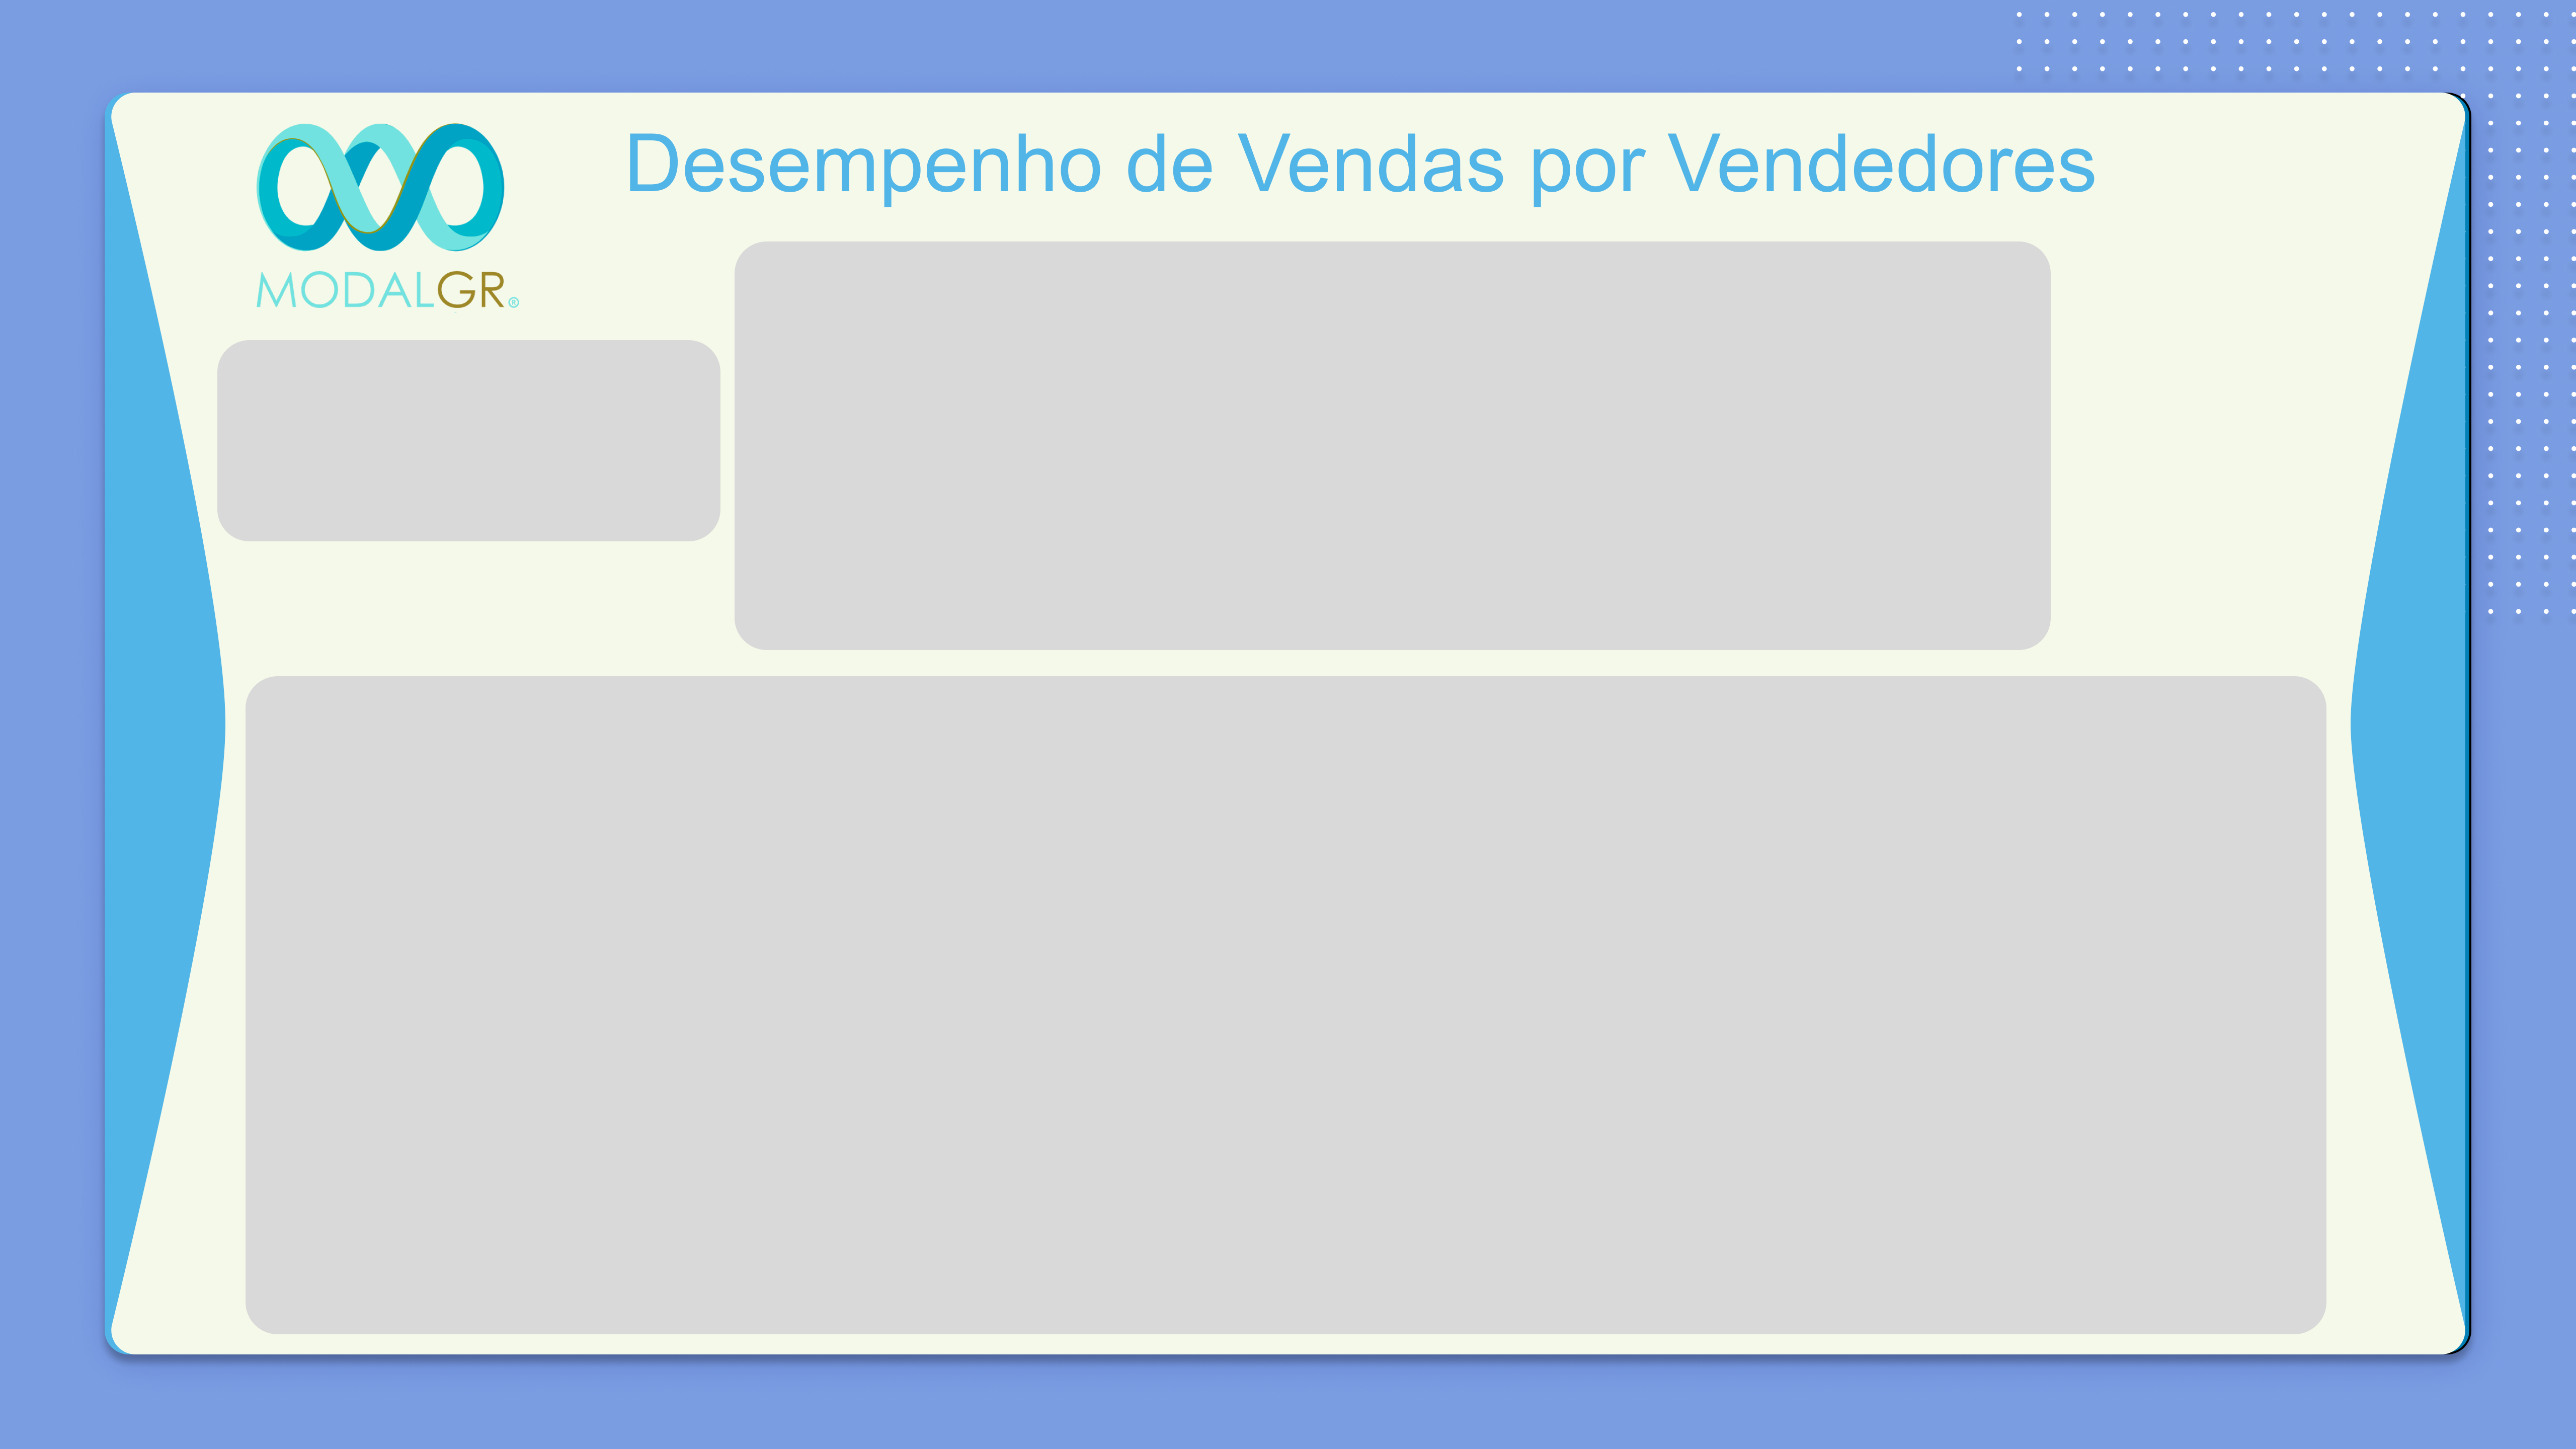

The page's visual inventory and layout, read from the dashboard file:
{"tool":"powerbi","page":{"name":"Grupo de Análise 2: Desempenho de Vendedores","canvas":[1280,720],"ordinal":1},"visuals":[{"type":"clusteredColumnChart","fields":{"Category":["Vendas.Vendedor"],"Y":["Medidas.Receita Total","Medidas.Lucro Total"]},"box":[120,340,850,327.1],"z":0},{"type":"slicer","title":"Vendedores","fields":{"Values":["Vendas.Vendedor"]},"box":[970,340,184.3,327.1],"z":2000},{"type":"clusteredColumnChart","fields":{"Category":["Vendas.Vendedor"],"Y":["Vendas.Comissão Total por Vendedor"]},"box":[371.4,124.3,654.3,202.9],"z":3000},{"type":"actionButton","box":[0,0,100,40],"z":4000},{"type":"multiRowCard","title":"Ordem Crescente de Lucro por Vendedor","fields":{"Values":["Vendas.VendedorMaiorLucro","Vendas.Vendedor"]},"box":[120,170,234.3,90],"z":6000},{"type":"actionButton","box":[1176.4,340.2,42.5,39.7],"z":7000},{"type":"actionButton","box":[60.9,340.2,39.7,39.7],"z":8000}]}

Visuals, with their boxes in screenshot pixels (x1, y1, x2, y2), scaled from the page's 1280x720 canvas onto the 2576x1449 screenshot:
clusteredColumnChart - Vendas.Vendedor x Medidas.Receita Total: locate(242, 684, 1952, 1342)
"Vendedores" slicer: locate(1952, 684, 2323, 1342)
clusteredColumnChart - Vendas.Vendedor x Vendas.Comissão Total por Vendedor: locate(748, 250, 2064, 659)
actionButton: locate(0, 0, 201, 80)
"Ordem Crescente de Lucro por Vendedor" multiRowCard: locate(242, 342, 713, 523)
actionButton: locate(2368, 685, 2453, 765)
actionButton: locate(123, 685, 202, 765)
